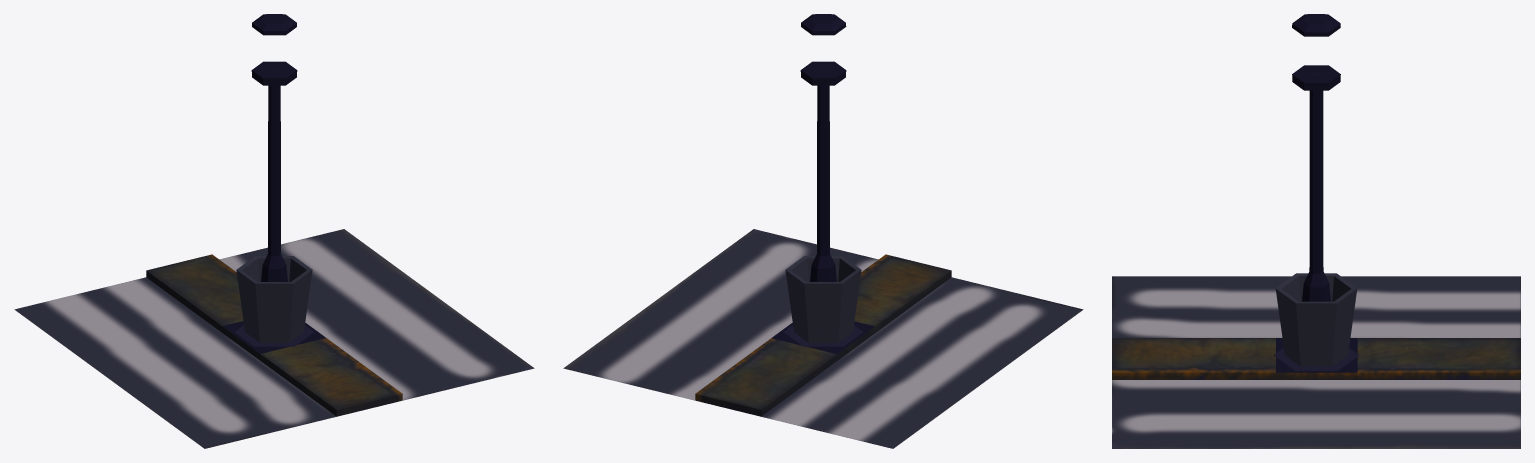
The model's file is street_1.fbx.
3 views of the same model, side by side, from view 1: azimuth 30°, elevation 25°; view 2: azimuth 150°, elevation 25°; view 3: azimuth 270°, elevation 25° (orthographic). The views are drawn at different scales.
Parts seen in each view (by area): view 1: roadCrossWalk, sideRoad, LightingPole, trashCan, trashCanCap; view 2: roadCrossWalk, sideRoad, LightingPole, trashCan, trashCanCap; view 3: roadCrossWalk, sideRoad, LightingPole, trashCan, trashCanCap.
Part boxes in pixels (<box>): roadCrossWalk: <box>14,229,534,448</box>; sideRoad: <box>146,254,402,416</box>; LightingPole: <box>222,14,325,359</box>; trashCan: <box>236,256,312,342</box>; trashCanCap: <box>235,325,313,346</box>; roadCrossWalk: <box>563,229,1083,448</box>; sideRoad: <box>695,254,951,416</box>; LightingPole: <box>771,14,874,353</box>; trashCan: <box>785,256,861,342</box>; trashCanCap: <box>784,325,862,346</box>; roadCrossWalk: <box>1112,276,1520,448</box>; sideRoad: <box>1112,338,1520,379</box>; LightingPole: <box>1276,14,1357,372</box>; trashCan: <box>1275,273,1357,366</box>; trashCanCap: <box>1274,348,1358,370</box>.
Size of the model in its own units: 1000 by 927 by 1000.
1 material, 1 textured.
